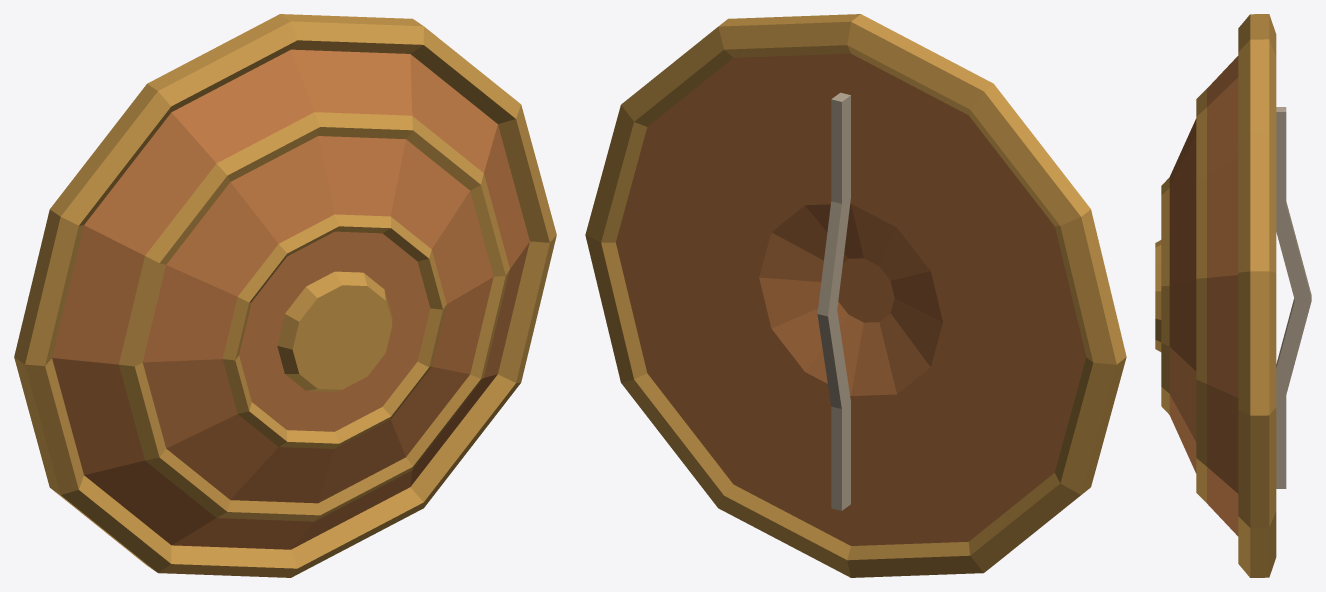
Rendered from SM_pwe_egypt_shield_03.fbx.
The picture shows the model from 3 angles, left to right: view 1: azimuth 30°, elevation 25°; view 2: azimuth 150°, elevation 25°; view 3: azimuth 270°, elevation 25°; orthographic projection. The views are drawn at different scales.
Visible parts, largest first — view 1: SM_pwe_egypt_shield_03; view 2: SM_pwe_egypt_shield_03; view 3: SM_pwe_egypt_shield_03.
Part boxes in pixels (x1,y1,x2,y2): SM_pwe_egypt_shield_03: [14, 14, 556, 577]; SM_pwe_egypt_shield_03: [585, 14, 1126, 577]; SM_pwe_egypt_shield_03: [1155, 14, 1311, 577].
Bounding box in the file's own units: 73.09 × 73.02 × 20.21.
